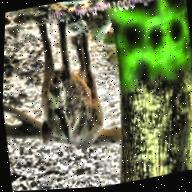boar: (13, 30, 119, 177)
